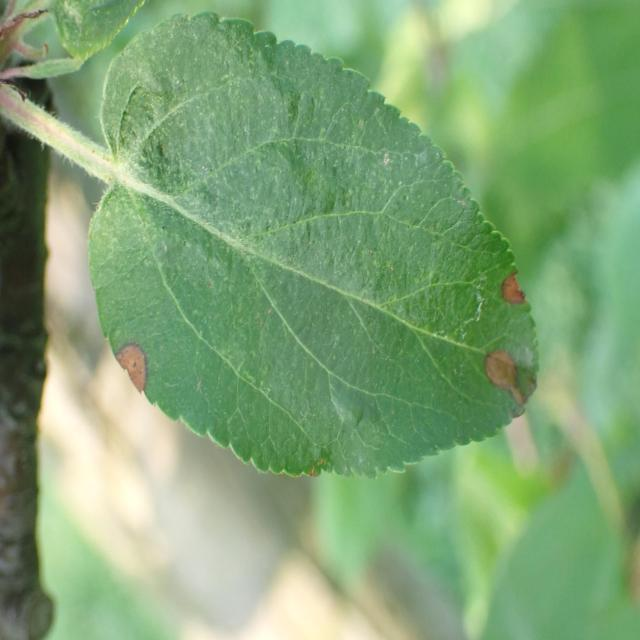Black Rot: (94, 306, 167, 436), (472, 339, 555, 449), (481, 250, 539, 320)
